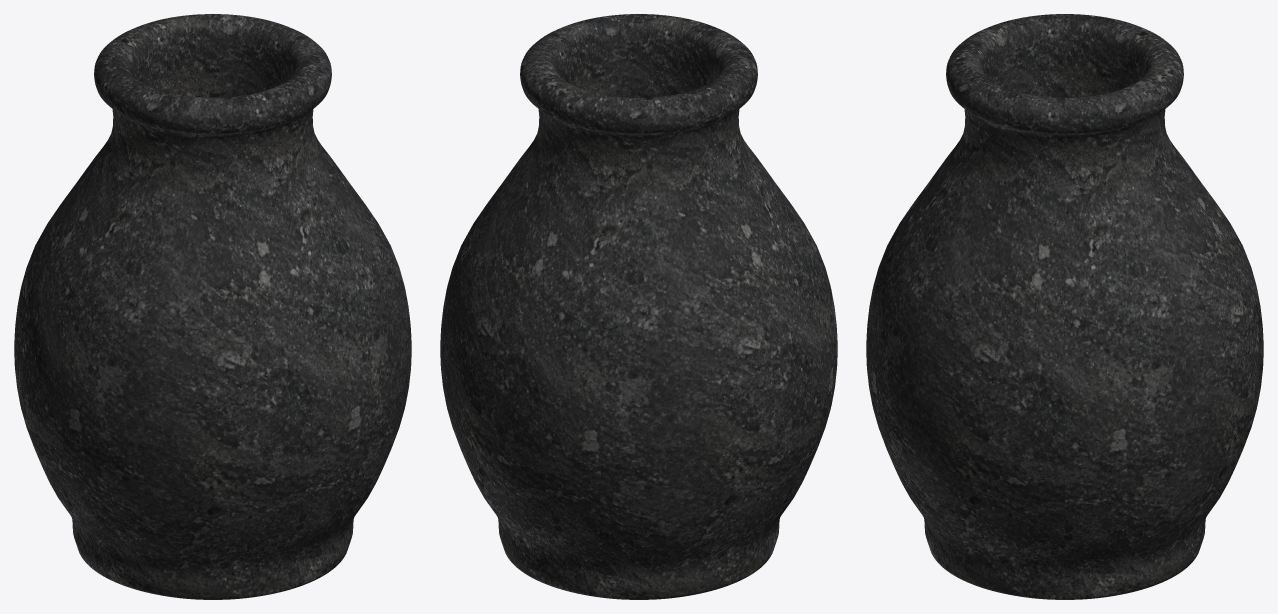
File: vase-small-black.glb
The picture shows the model from 3 angles, left to right: view 1: azimuth 30°, elevation 25°; view 2: azimuth 150°, elevation 25°; view 3: azimuth 270°, elevation 25°; orthographic projection.
Parts seen in each view (by area): view 1: vase-small-black; view 2: vase-small-black; view 3: vase-small-black.
Part boxes in pixels (<box>): vase-small-black: <box>14,14,411,599</box>; vase-small-black: <box>440,14,837,599</box>; vase-small-black: <box>866,14,1263,599</box>.
Size of the model in its own units: 0.0167 by 0.0226 by 0.0167.
1 material, 1 textured.
